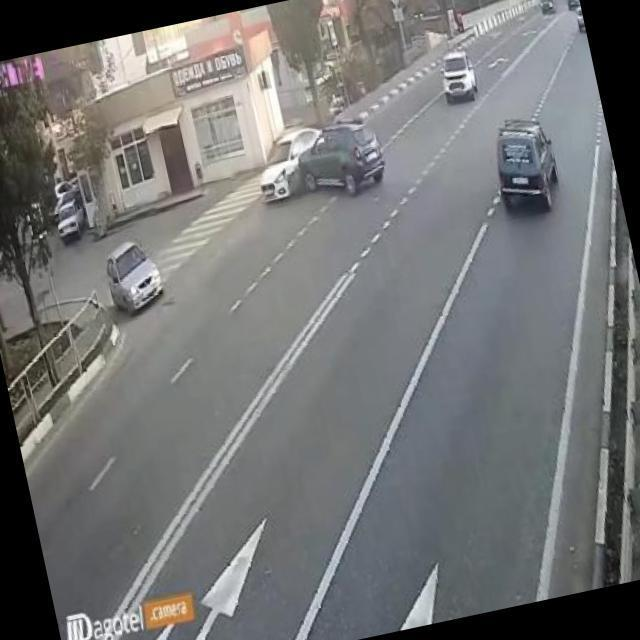accident: (247, 112, 391, 216)
